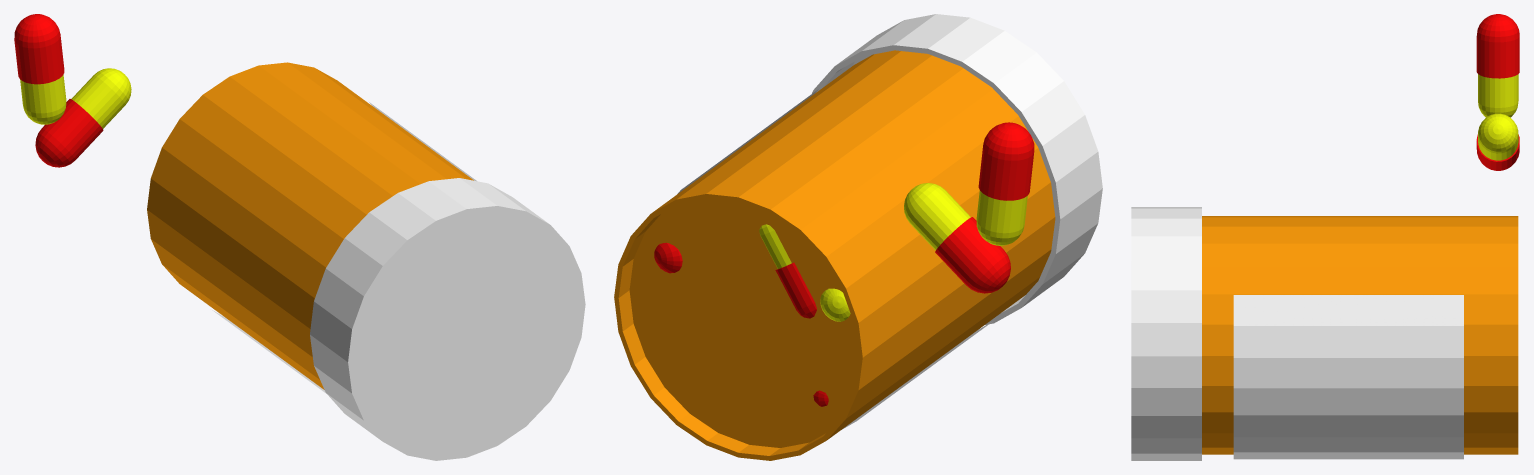
The picture shows the model from 3 angles, left to right: view 1: azimuth 30°, elevation 25°; view 2: azimuth 150°, elevation 25°; view 3: azimuth 270°, elevation 25°; orthographic projection. The views are drawn at different scales.
Parts seen in each view (by area): view 1: prescription pills; view 2: prescription pills; view 3: prescription pills.
Part boxes in pixels (x1=…): prescription pills: x1=14, y1=14, x2=585, y2=460; prescription pills: x1=614, y1=14, x2=1102, y2=460; prescription pills: x1=1131, y1=14, x2=1519, y2=460.
Bounding box in the file's own units: 379 × 345 × 370.
